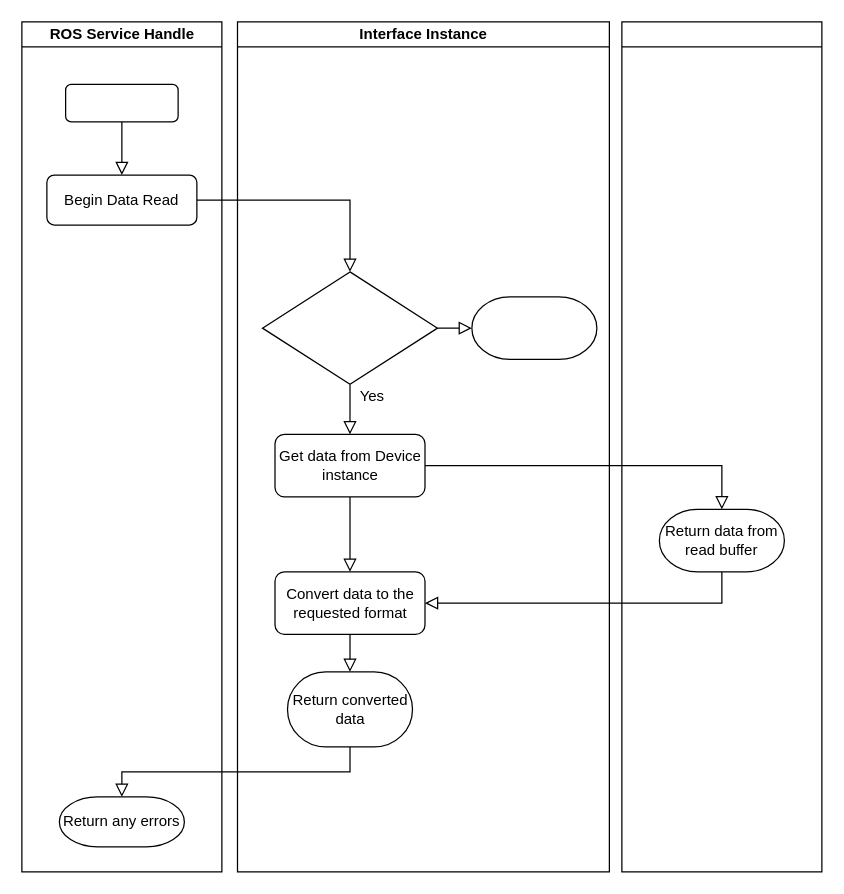
Image size: 844x894. Some labels were removed from this diagram. Here are the shapes that lost their labels. From the top down, the box of each, then its label:
(64, 83, 178, 122): Service Handle Called
(261, 271, 438, 384): Data, Pin, and Format requested are valid?
(471, 296, 597, 359): Return error to request
(621, 21, 822, 872): Device Instance
